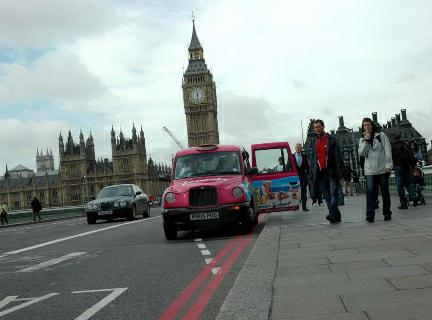吉利汽车-吉利EC8: (160, 145, 260, 237)
